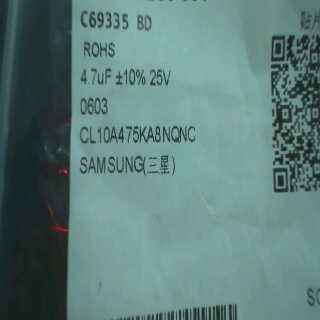4.7uF: (79, 63, 114, 89)
